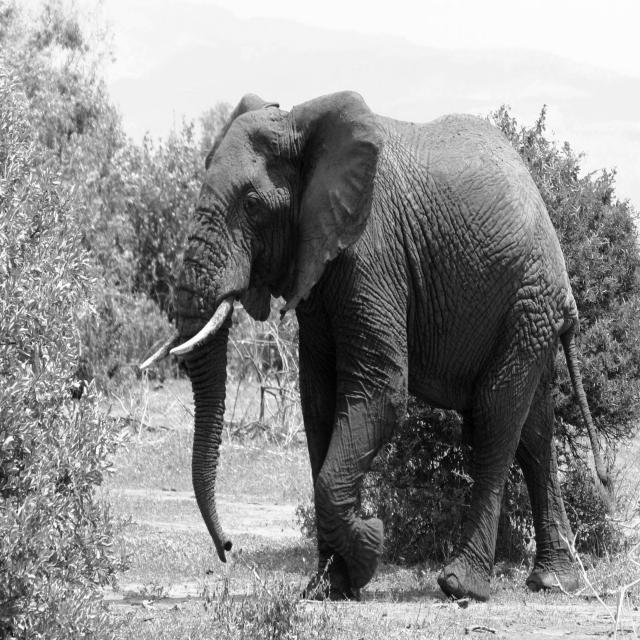Elephant: (139, 89, 615, 603)
